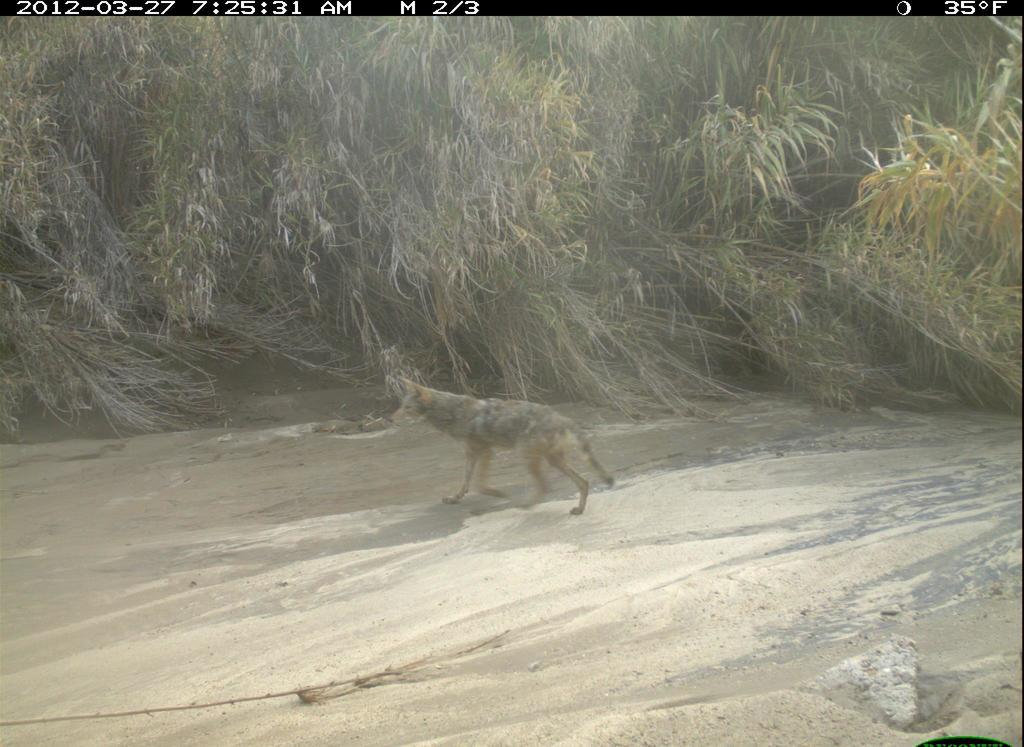coyote: (364, 360, 643, 538)
